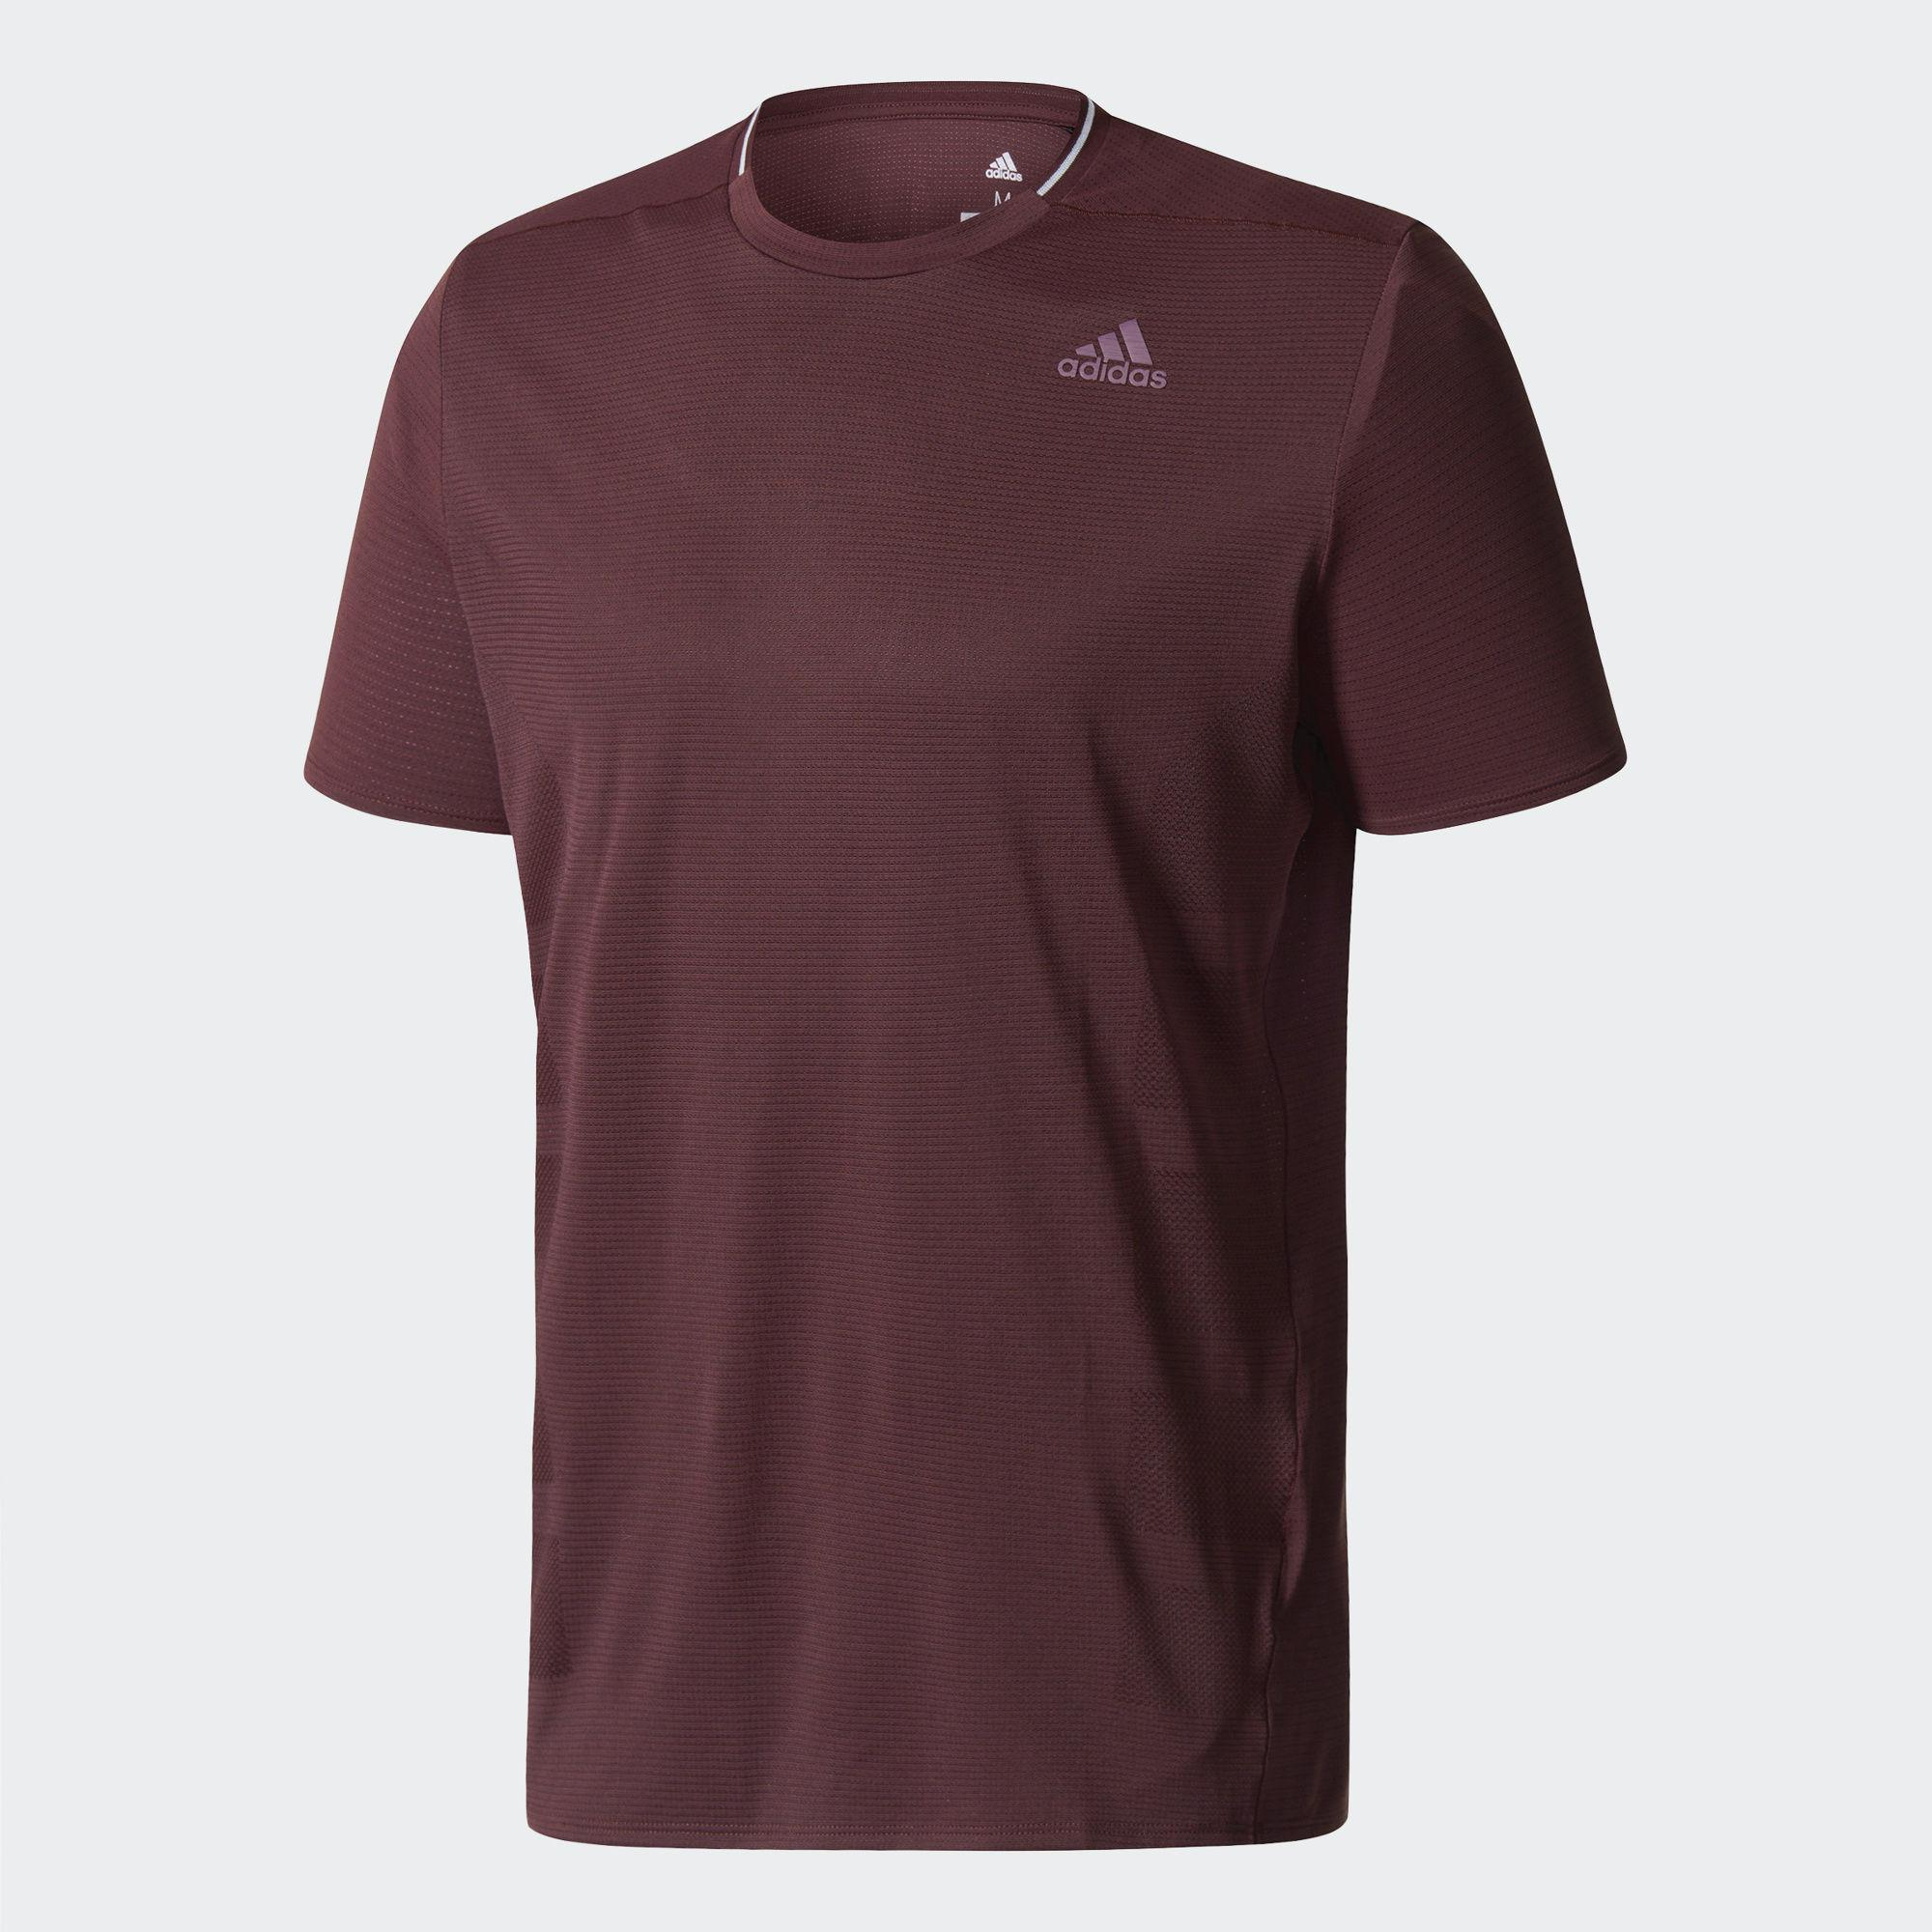teeshirt: (219, 67, 1652, 1916)
